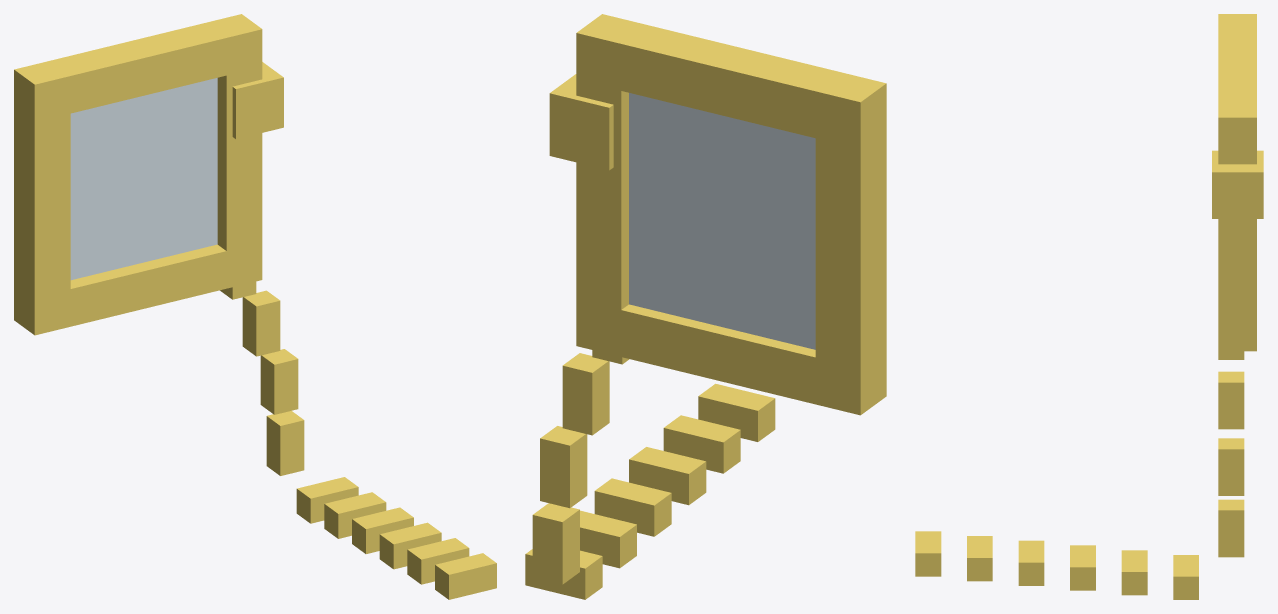
File: monoculo_corrente.glb
3 views of the same model, side by side, from view 1: azimuth 30°, elevation 25°; view 2: azimuth 150°, elevation 25°; view 3: azimuth 270°, elevation 25° (orthographic). The views are drawn at different scales.
Visible parts, largest first — view 1: monoculo_corrente; view 2: monoculo_corrente; view 3: monoculo_corrente.
Boxes of the visible parts, x1=… form: monoculo_corrente: x1=14, y1=14, x2=496, y2=599; monoculo_corrente: x1=525, y1=14, x2=886, y2=599; monoculo_corrente: x1=915, y1=14, x2=1263, y2=599.
Size of the model in its own units: 0.25 by 0.385 by 0.27.
